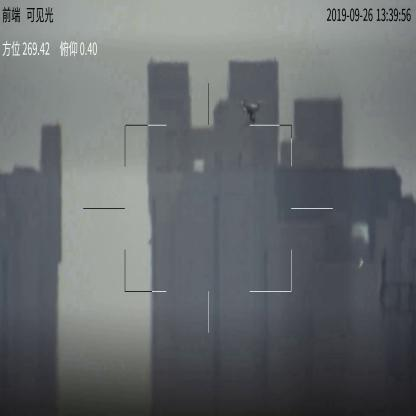uav: (238, 98, 264, 126)
